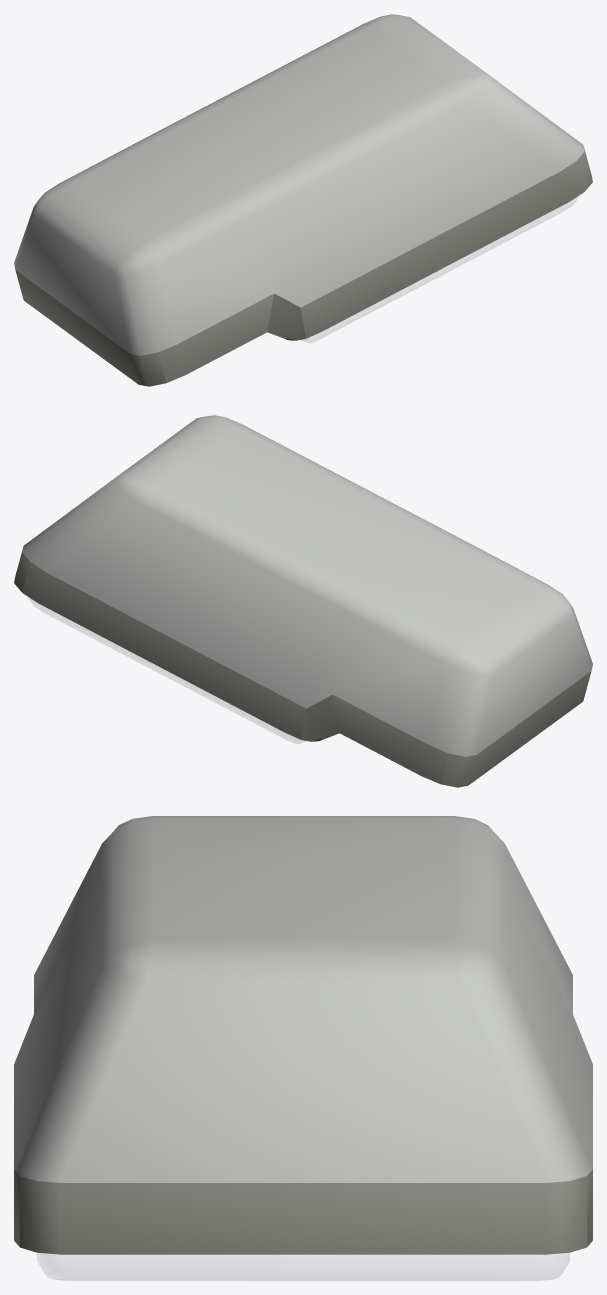
3 views of the same model, one above another, from view 1: azimuth 30°, elevation 25°; view 2: azimuth 150°, elevation 25°; view 3: azimuth 270°, elevation 25° (orthographic). The views are drawn at different scales.
Parts seen in each view (by area): view 1: SL_100, Glas; view 2: SL_100, Glas; view 3: SL_100, Glas.
Part boxes in pixels (left/top/right/bottom): SL_100: left=14, top=14, right=592, bottom=386; Glas: left=301, top=196, right=578, bottom=342; SL_100: left=14, top=415, right=592, bottom=787; Glas: left=28, top=597, right=305, bottom=743; SL_100: left=14, top=816, right=592, bottom=1254; Glas: left=37, top=1253, right=569, bottom=1280.
Bounding box in the file's own units: 0.5997 × 0.2644 × 0.34.
Materials: 4 (3 with a texture image).
